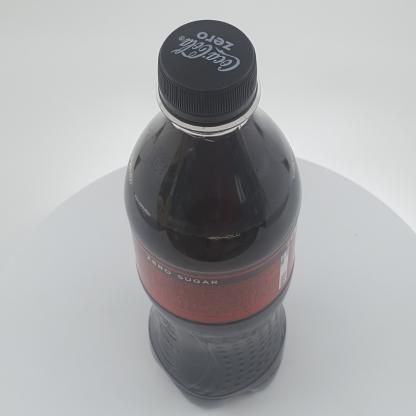------500ML: (124, 20, 302, 408)
